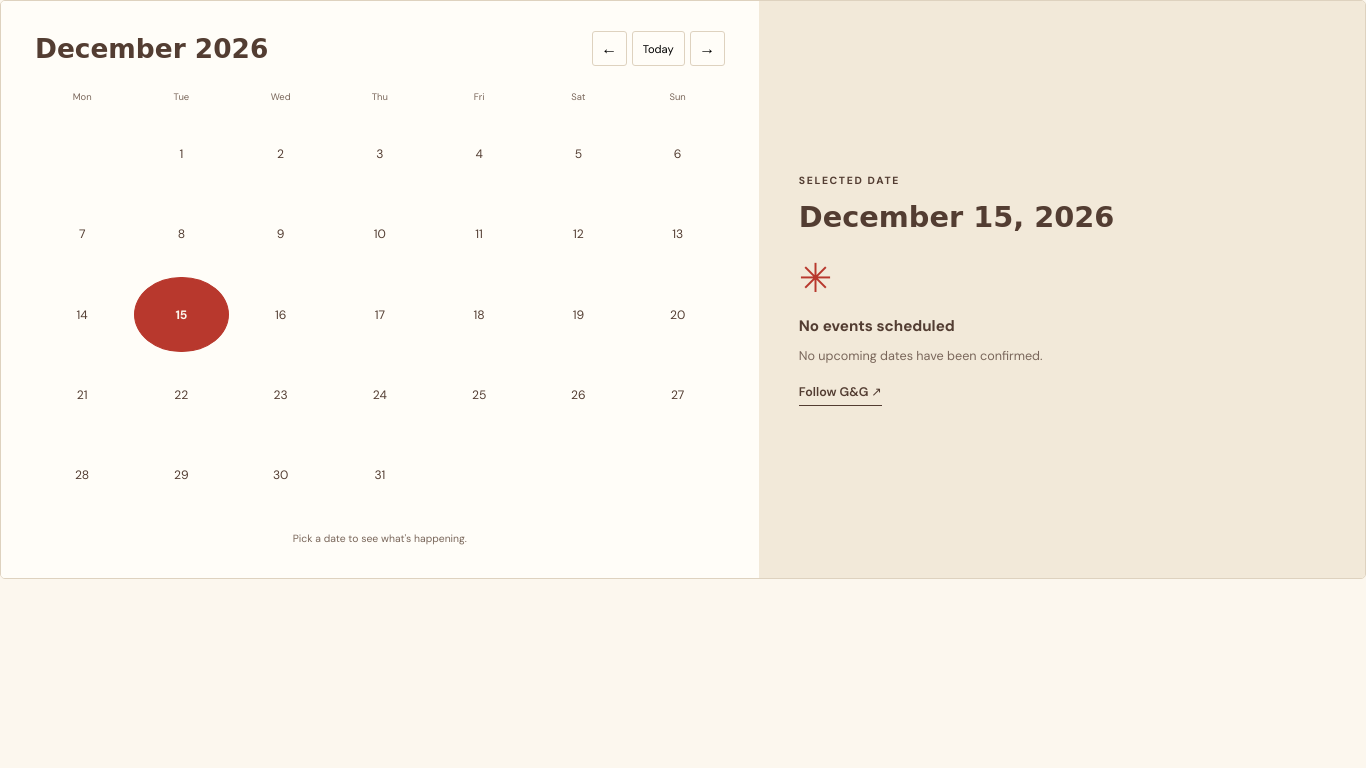
Calendar date logic › crosses December/January in both directions and returns to today
The image size is (1366, 768).
What coordinates should you click on to do the following:
click the button named "Next month"
I would click on:
 (707, 48)
Its box is [690, 31, 725, 66].
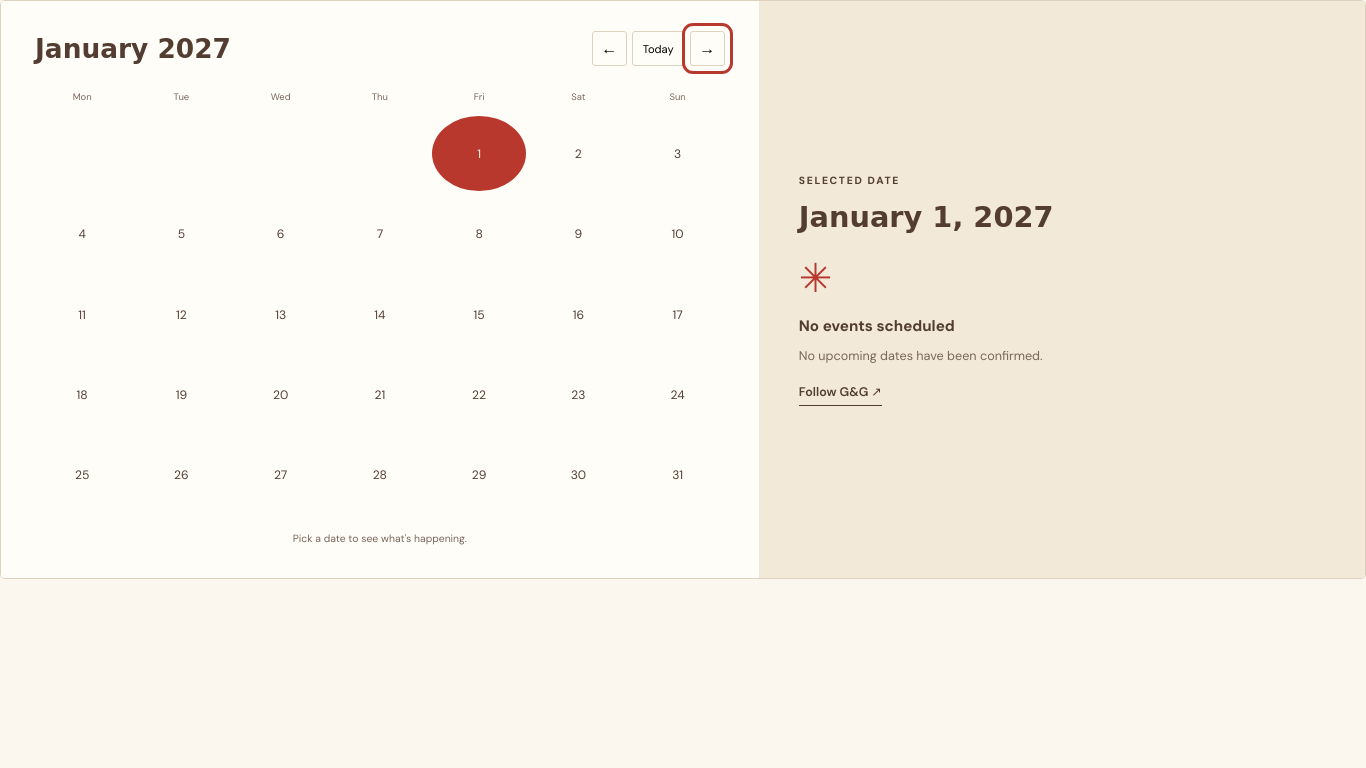
Now the heading "January 2027" is shown, box [35, 33, 231, 64]
What coordinates should you click on to do the following:
click the button named "Previous month"
I would click on:
 (609, 48)
Its box is [592, 31, 627, 66].
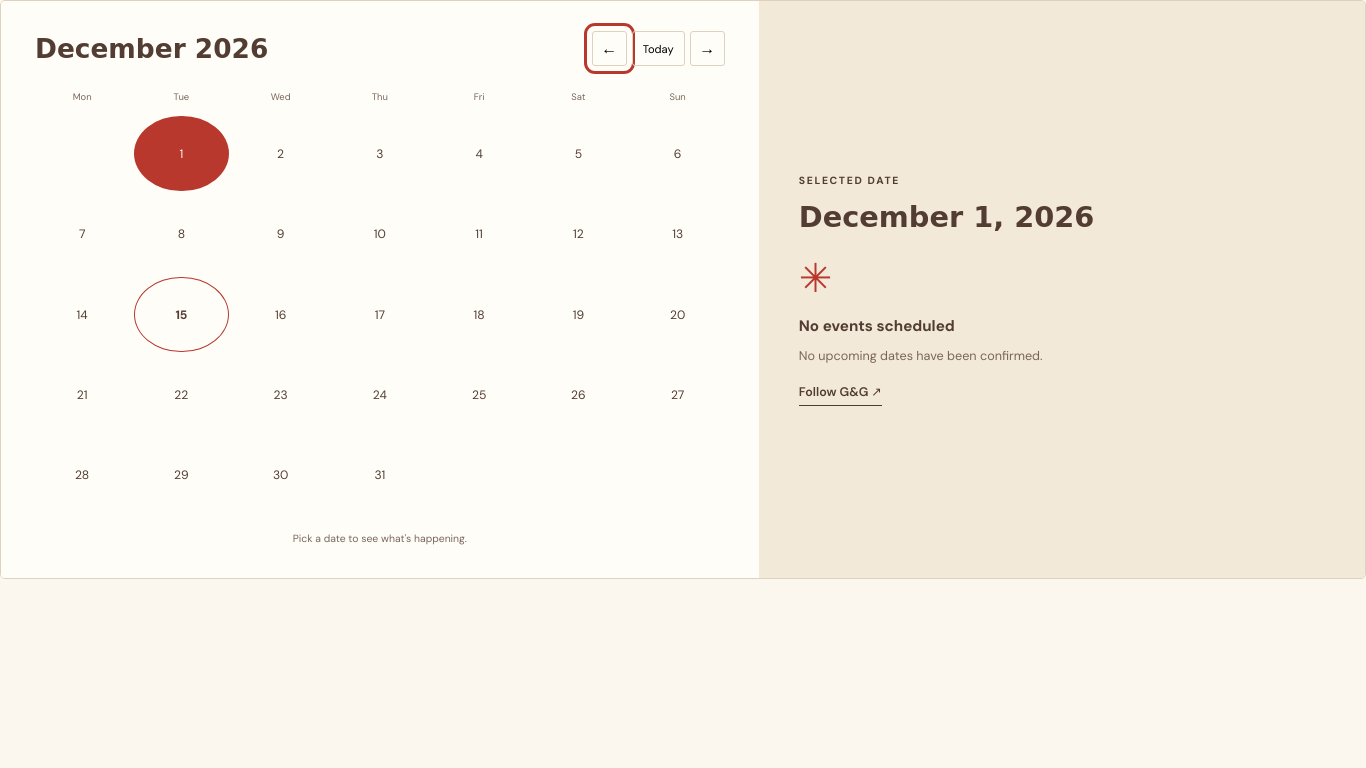
Now the heading "December 2026" is shown, box [35, 33, 268, 64]
What coordinates should you click on to do the following:
click the button named "Previous month"
I would click on:
 (609, 48)
Its box is [592, 31, 627, 66].
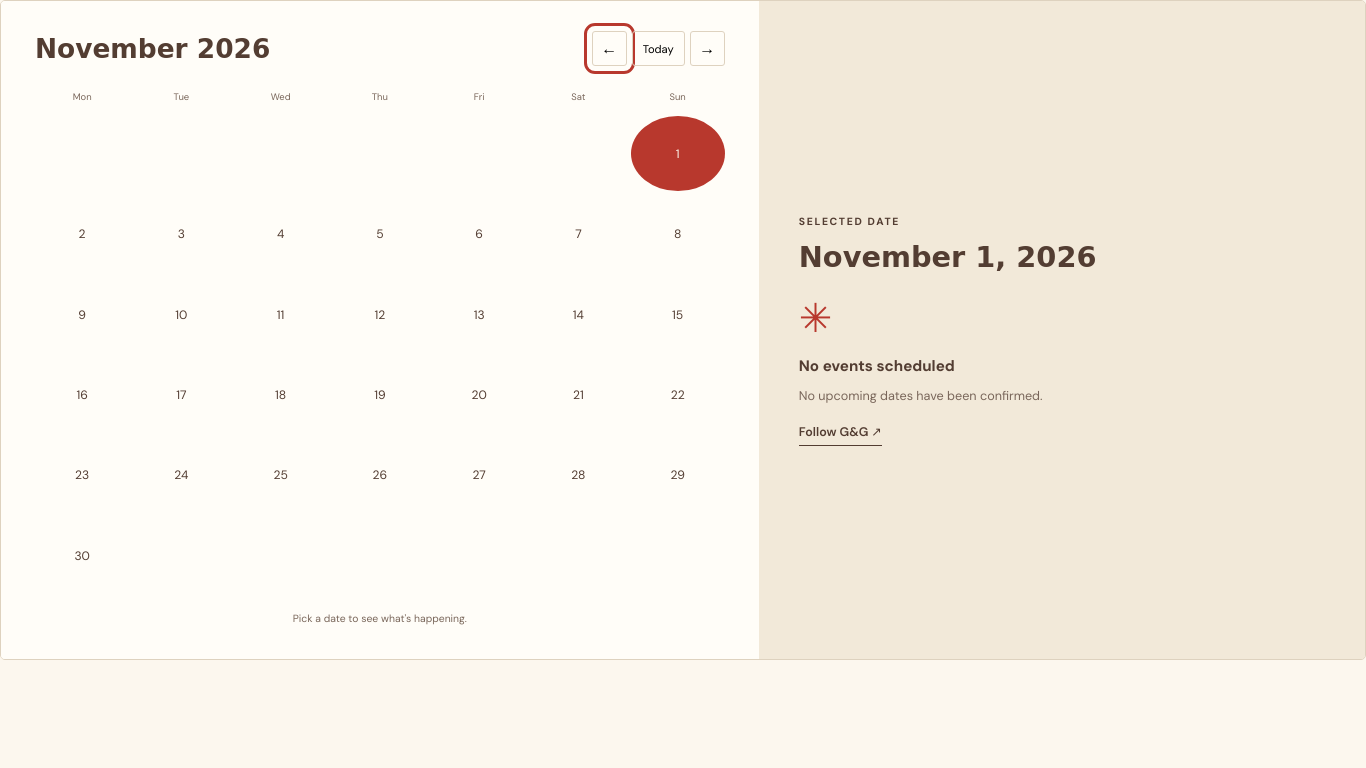
Now the heading "November 2026" is shown, box [35, 33, 270, 64]
What coordinates should you click on to do the following:
click the button "Today"
I would click on:
 (658, 48)
Its box is [632, 31, 685, 66].
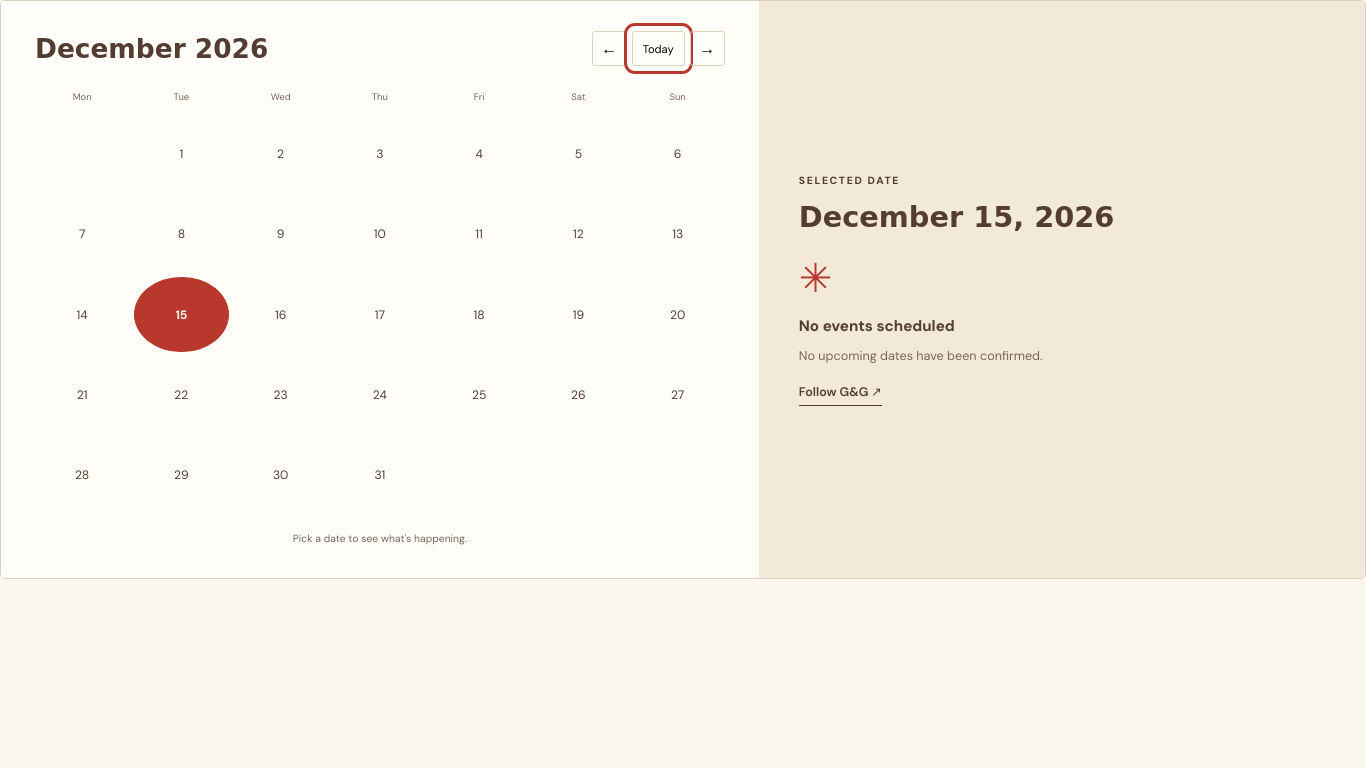
Now the button named "December 15, 2026" is pressed, box [134, 277, 229, 352]
